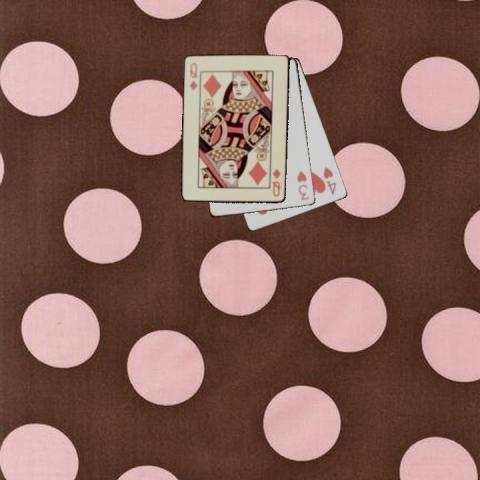3h: (294, 168, 310, 201)
4h: (321, 164, 337, 196)
Qd: (269, 166, 282, 199), (187, 60, 199, 92)
